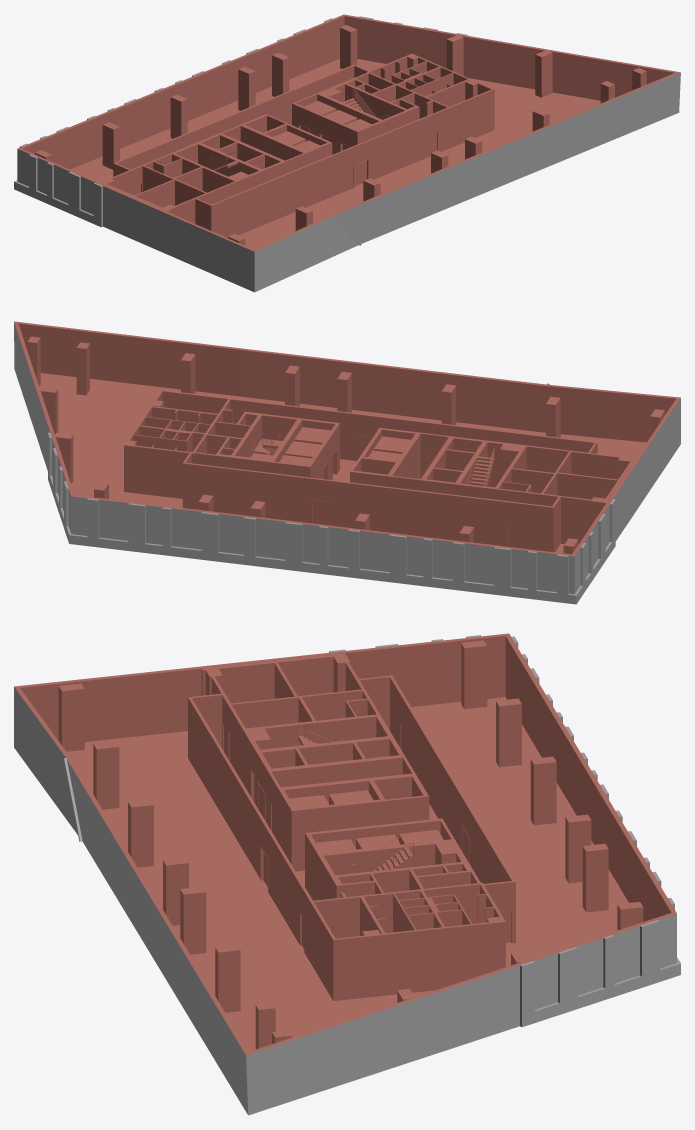
Rendered from JLL_Ruya_Region3DModels_Riyadh_Derived_HeroBuildings_Building 305_Floors_KSA_04_04105_B29_Floor_T1_14.fbx.
3 views of the same model, one above another, from view 1: azimuth 30°, elevation 25°; view 2: azimuth 150°, elevation 25°; view 3: azimuth 270°, elevation 25° (orthographic). The views are drawn at different scales.
Parts seen in each view (by area): view 1: KSA_04_04105_B29_Floor_T1_14; view 2: KSA_04_04105_B29_Floor_T1_14; view 3: KSA_04_04105_B29_Floor_T1_14.
Part boxes in pixels (left/top/right/bottom): KSA_04_04105_B29_Floor_T1_14: left=14, top=14, right=680, bottom=292; KSA_04_04105_B29_Floor_T1_14: left=14, top=321, right=680, bottom=604; KSA_04_04105_B29_Floor_T1_14: left=14, top=633, right=680, bottom=1115.
Size of what is drawn, in the model's own units: 6083 by 509 by 4048.
